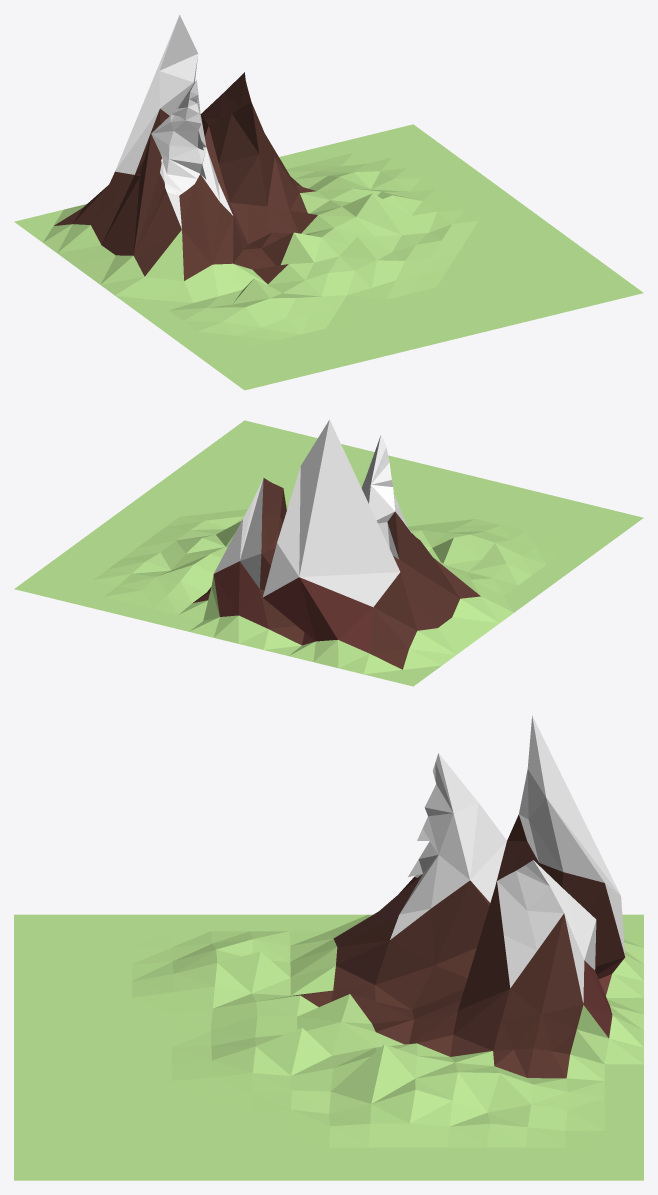
The model's file is mountain.dae.
The picture shows the model from 3 angles, top to bottom: view 1: azimuth 30°, elevation 25°; view 2: azimuth 150°, elevation 25°; view 3: azimuth 270°, elevation 25°; orthographic projection. The views are drawn at different scales.
Visible parts, largest first — view 1: Plane; view 2: Plane; view 3: Plane.
Part boxes in pixels (bbox=[...]): Plane: bbox=[14, 15, 643, 390]; Plane: bbox=[14, 420, 643, 686]; Plane: bbox=[14, 715, 643, 1180].
Size of the model in its own units: 406 by 406 by 201.
